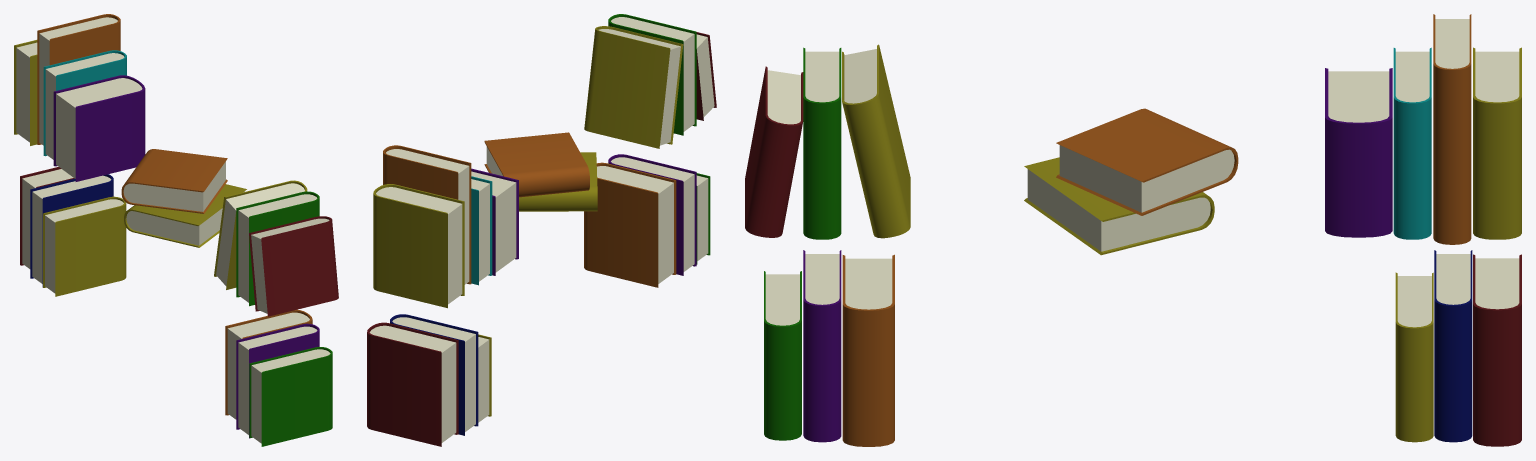
File: books_shelve_03.glb
The picture shows the model from 3 angles, left to right: view 1: azimuth 30°, elevation 25°; view 2: azimuth 150°, elevation 25°; view 3: azimuth 270°, elevation 25°; orthographic projection. The views are drawn at different scales.
Parts seen in each view (by area): view 1: Cube.483; view 2: Cube.483; view 3: Cube.483.
Part boxes in pixels (x1=…): Cube.483: x1=14, y1=14, x2=338, y2=446; Cube.483: x1=367, y1=14, x2=716, y2=446; Cube.483: x1=745, y1=14, x2=1521, y2=446.
Bounding box in the file's own units: 0.1977 × 0.4177 × 0.7793.
